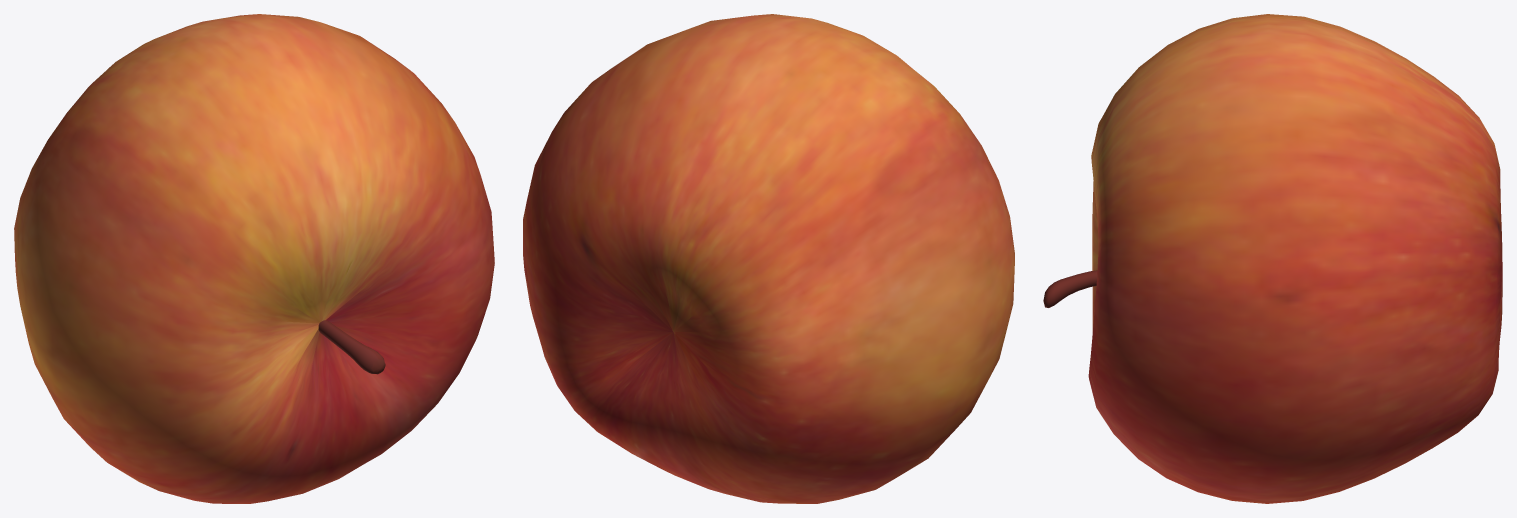
File: apple.obj
The picture shows the model from 3 angles, left to right: view 1: azimuth 30°, elevation 25°; view 2: azimuth 150°, elevation 25°; view 3: azimuth 270°, elevation 25°; orthographic projection. The views are drawn at different scales.
Visible parts, largest first — view 1: apple_Sphere.002; view 2: apple_Sphere.002; view 3: apple_Sphere.002.
Part boxes in pixels (box(x1,y1,x2,y2)): apple_Sphere.002: box(14, 14, 494, 503); apple_Sphere.002: box(523, 14, 1014, 503); apple_Sphere.002: box(1043, 14, 1502, 503).
Bounding box in the file's own units: 0.7446 × 0.746 × 0.6842.
